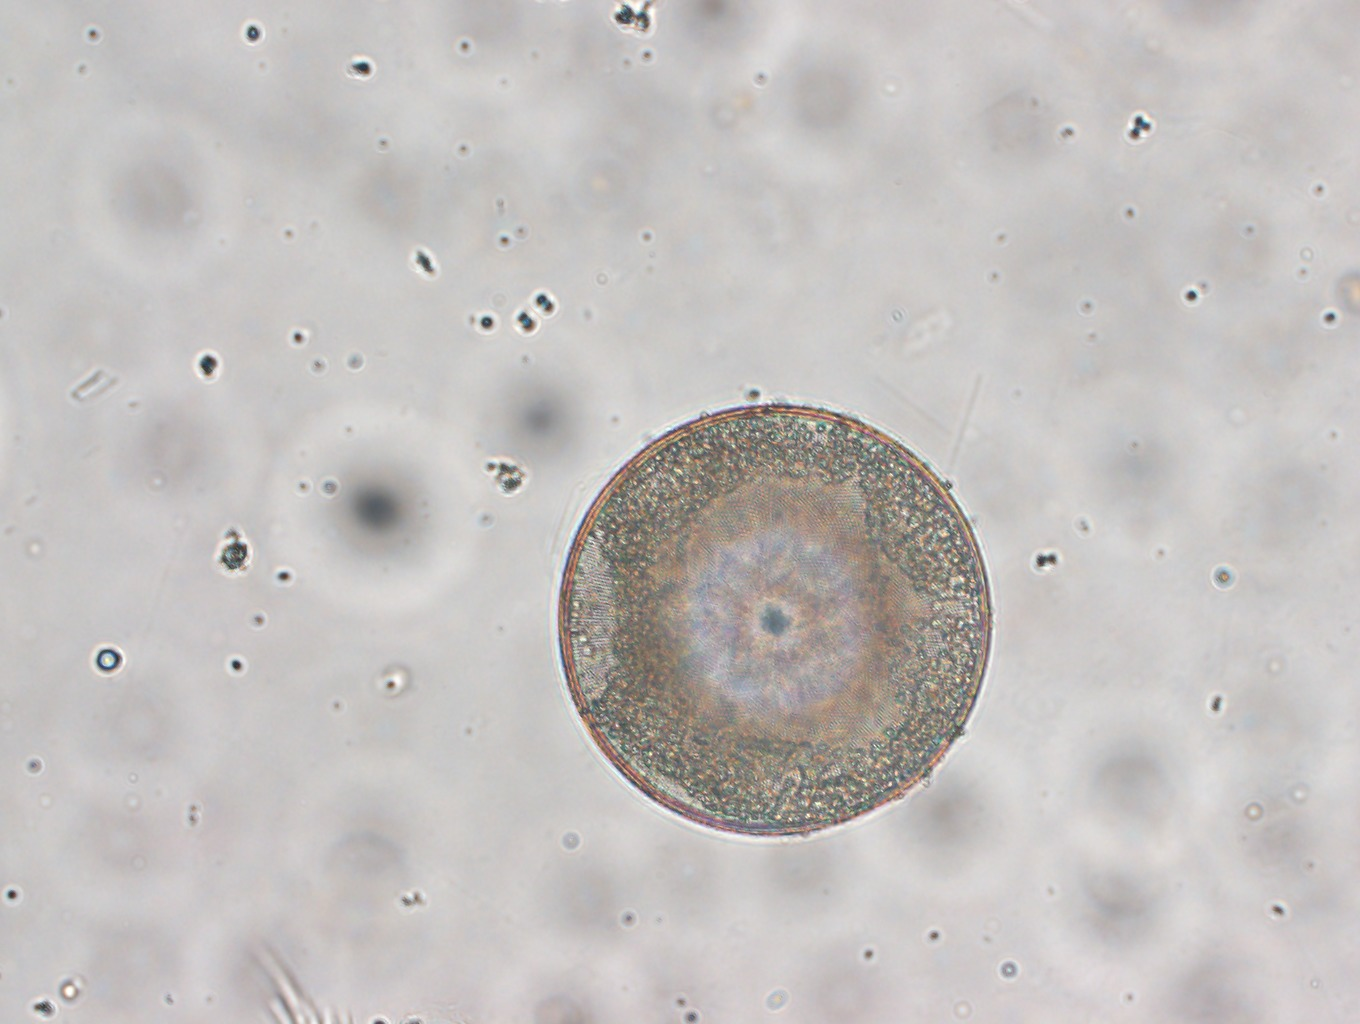coscinodiscus: (556, 402, 993, 841)
